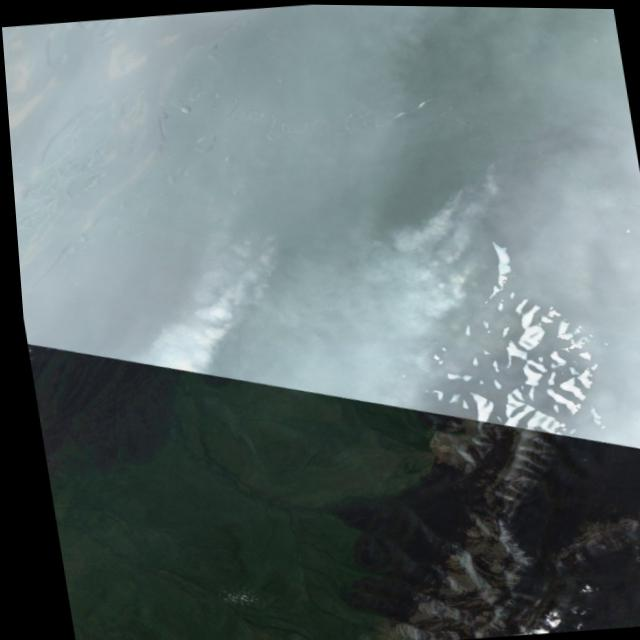fire: (146, 219, 297, 378)
